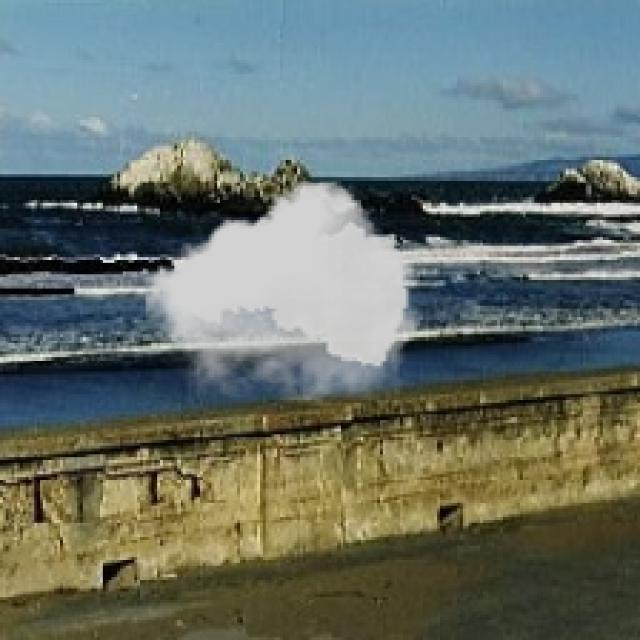Smoke: (146, 180, 420, 400)
